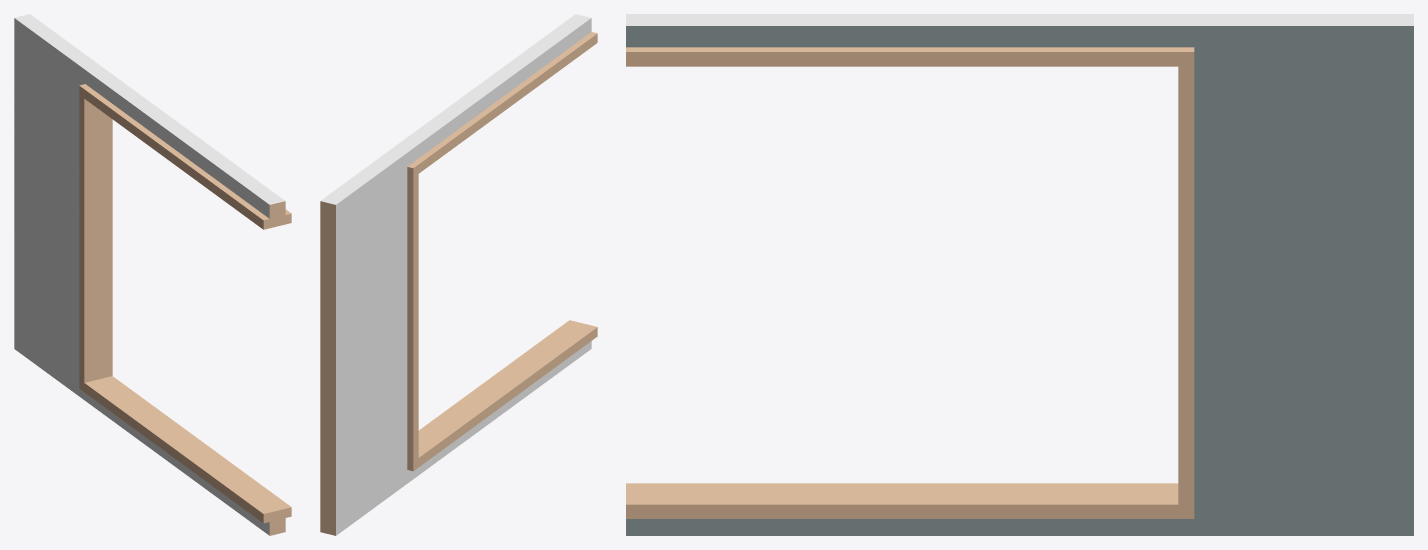
Rendered from wallDoorwayWide.fbx.
3 views of the same model, side by side, from view 1: azimuth 30°, elevation 25°; view 2: azimuth 150°, elevation 25°; view 3: azimuth 270°, elevation 25° (orthographic). The views are drawn at different scales.
Visible parts, largest first — view 1: wallDoorwayWide; view 2: wallDoorwayWide; view 3: wallDoorwayWide.
Boxes of the visible parts, left/top/right/bottom form: wallDoorwayWide: left=14, top=14, right=291, bottom=535; wallDoorwayWide: left=320, top=14, right=597, bottom=535; wallDoorwayWide: left=626, top=14, right=1413, bottom=535.
Bounding box in the file's own units: 1400 × 1000 × 89.1.
